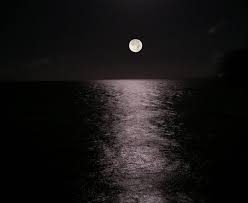moon: (128, 38, 143, 53)
